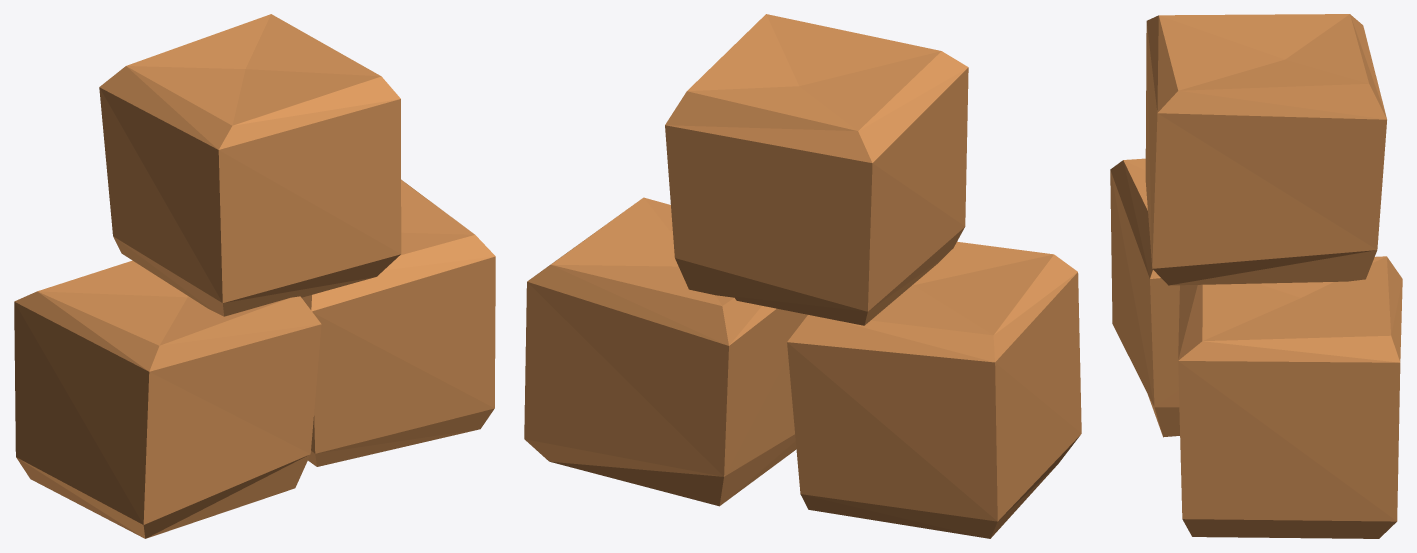
Rendered from SM_ButterscotchCubes.fbx.
3 renders of one model, left to right at view 1: azimuth 30°, elevation 25°; view 2: azimuth 150°, elevation 25°; view 3: azimuth 270°, elevation 25°, orthographic. The views are drawn at different scales.
Visible parts, largest first — view 1: Butterscotch_Cubes; view 2: Butterscotch_Cubes; view 3: Butterscotch_Cubes.
Boxes of the visible parts, x1=… form: Butterscotch_Cubes: x1=14, y1=14, x2=495, y2=538; Butterscotch_Cubes: x1=524, y1=14, x2=1081, y2=538; Butterscotch_Cubes: x1=1110, y1=14, x2=1402, y2=538.
Bounding box in the file's own units: 0.1293 × 0.1133 × 0.0763.
